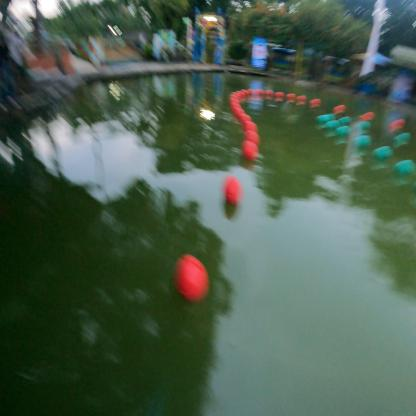green_buoy: (396, 158, 414, 178), (373, 144, 392, 162), (355, 134, 372, 148), (316, 114, 332, 128), (324, 120, 340, 131), (337, 125, 350, 138), (338, 116, 353, 125), (398, 134, 410, 142), (360, 121, 370, 130)
red_buoy: (174, 254, 209, 302), (224, 178, 240, 204), (243, 141, 256, 160), (244, 131, 260, 145), (245, 121, 256, 135)
